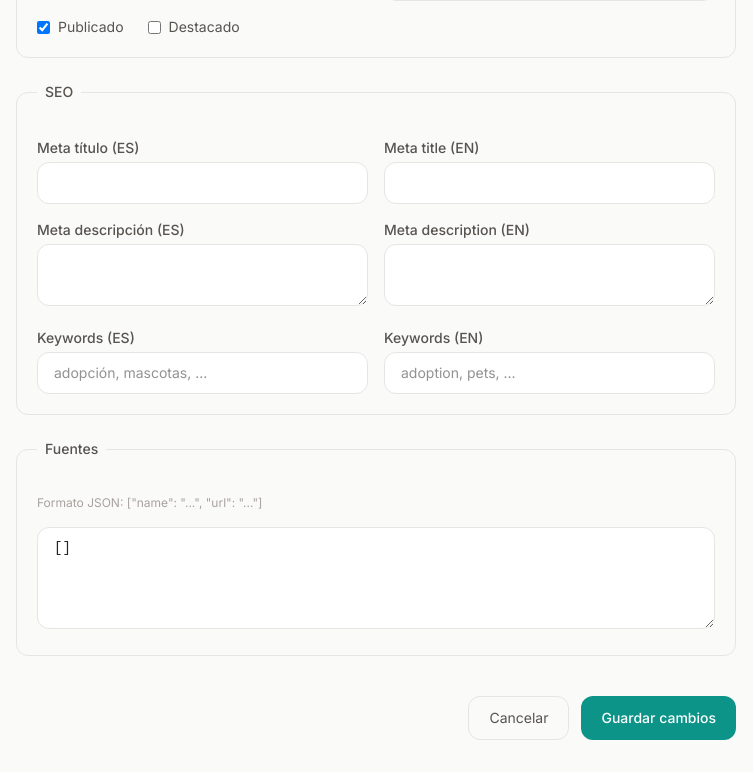
AdminBlogEditPage › shows error message when updatePost throws
(page scrolled)
Click the button "Guardar cambios": [659, 718] box [582,696,736,740]
(page scrolled)
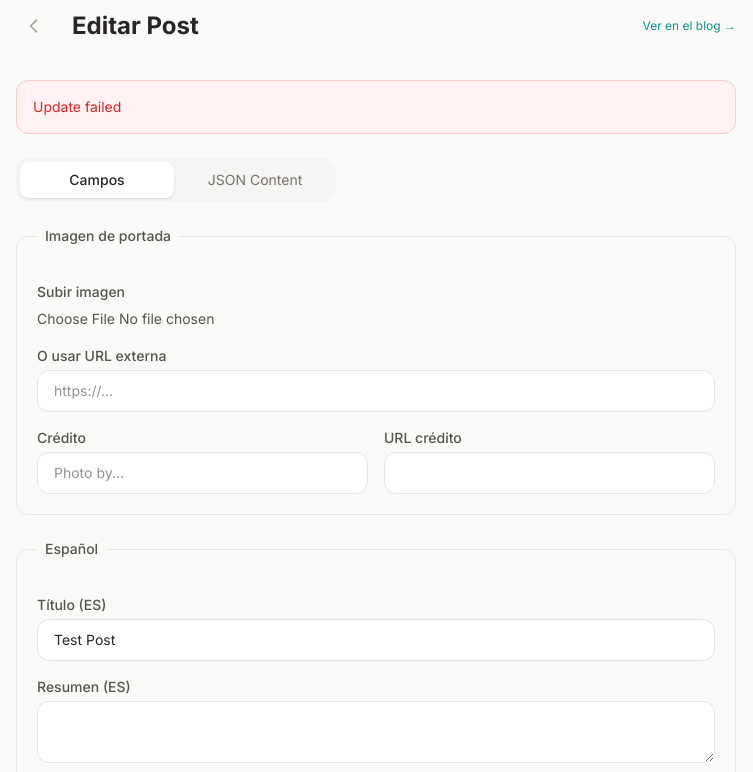
Now the text "Update failed" is shown, box [16,80,736,134]
